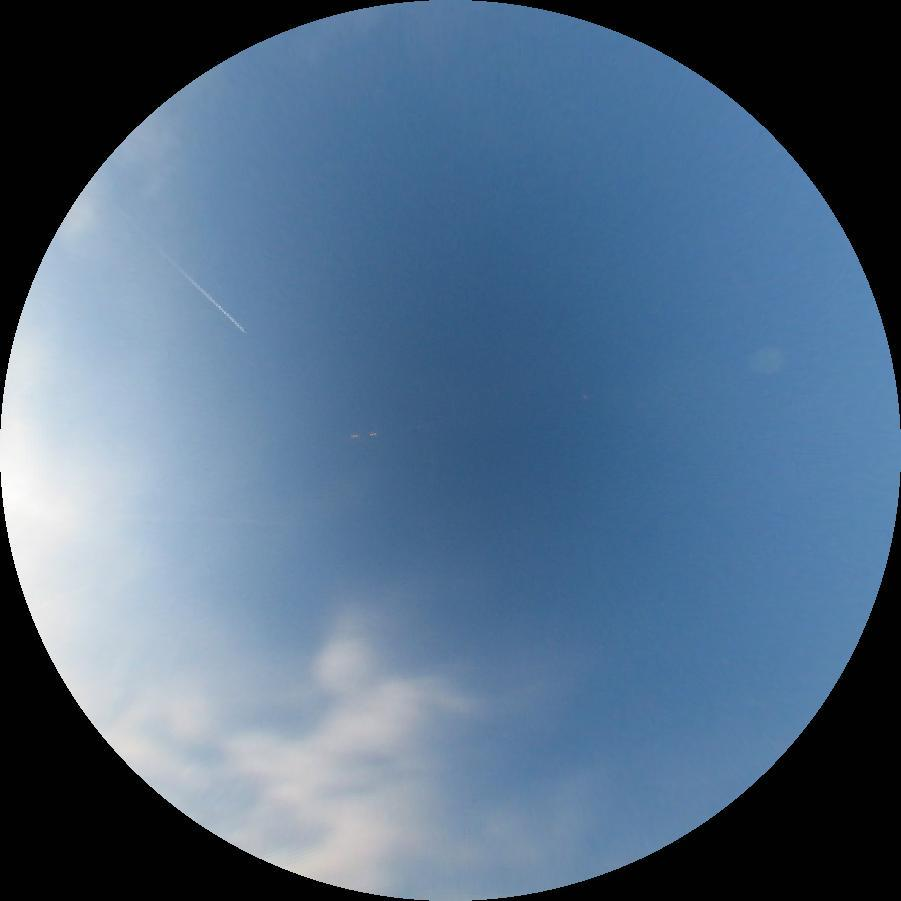contrail young: (165, 257, 248, 335)
